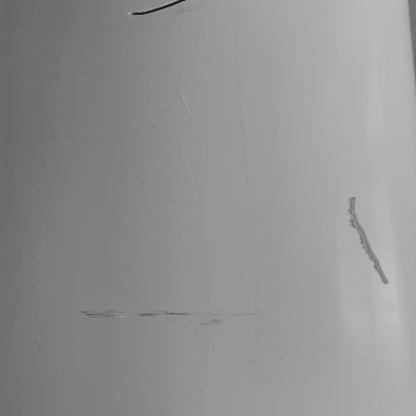fengxi: (124, 1, 193, 20)
sunshang: (343, 194, 394, 285), (77, 305, 253, 327)
